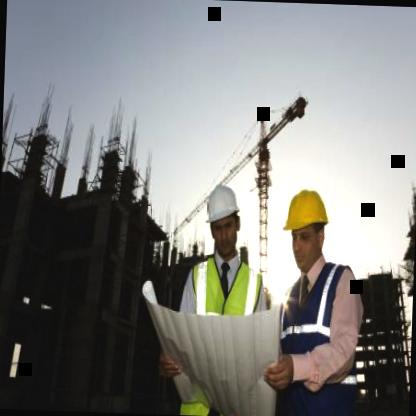helmet: (280, 178, 335, 274), (202, 178, 244, 260)
